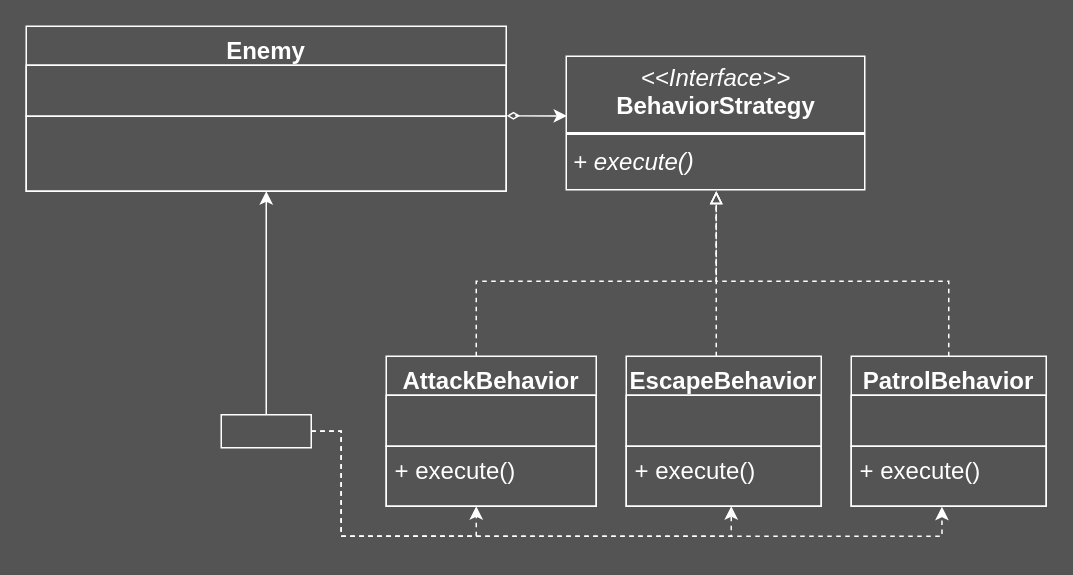
The diagram is 1073 pixels wide and 575 high, and some of its shapes have lost their labels. Each missing label, with the centre of its shape:
"+ setBehaviorStrategy(BehaviorStrategy) + executeBehavior()" belongs at [265,153].
"behaviorStrategy: BehaviorStrategy" belongs at [265,90].
"Client" belongs at [265,430].
